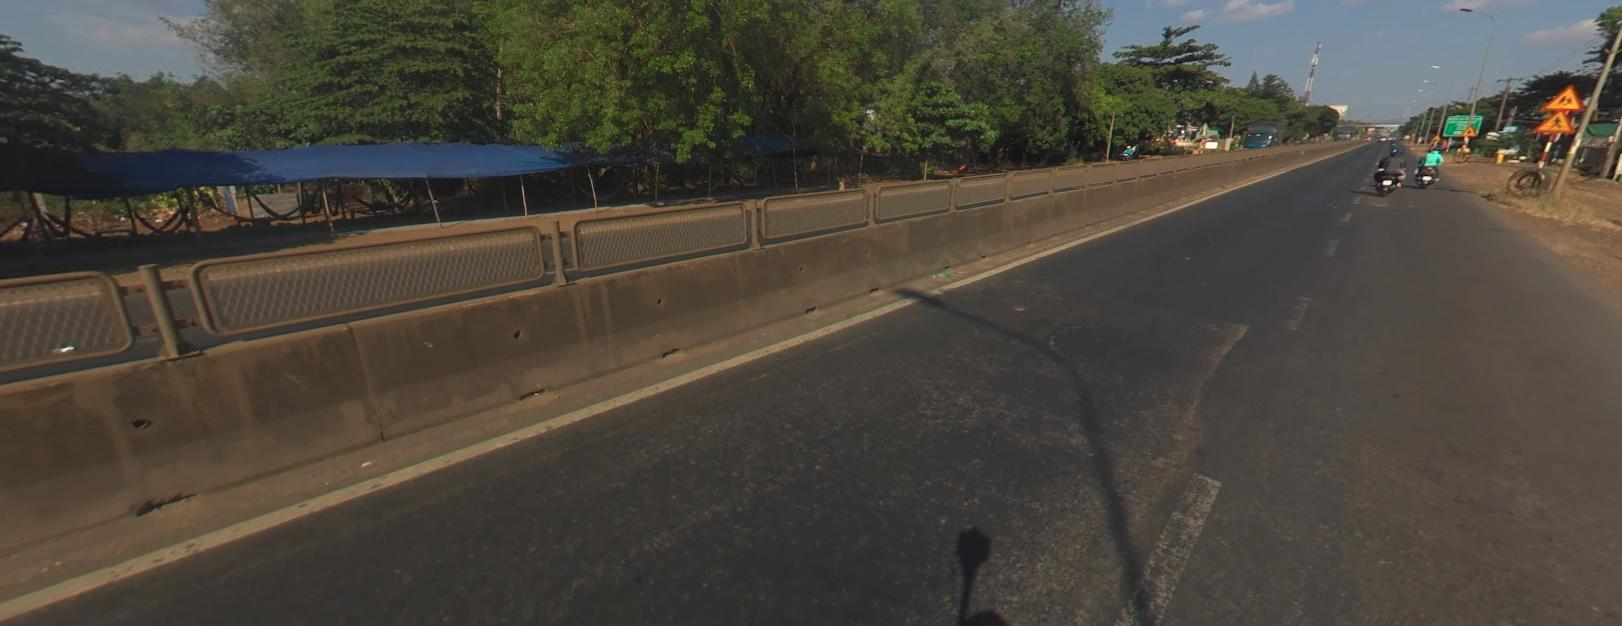Nguy hiem: (1543, 80, 1585, 110), (1542, 84, 1583, 110), (1532, 110, 1575, 133), (1531, 111, 1573, 133), (1461, 124, 1476, 135), (1461, 125, 1477, 135), (1431, 133, 1440, 140), (1431, 132, 1440, 139)
